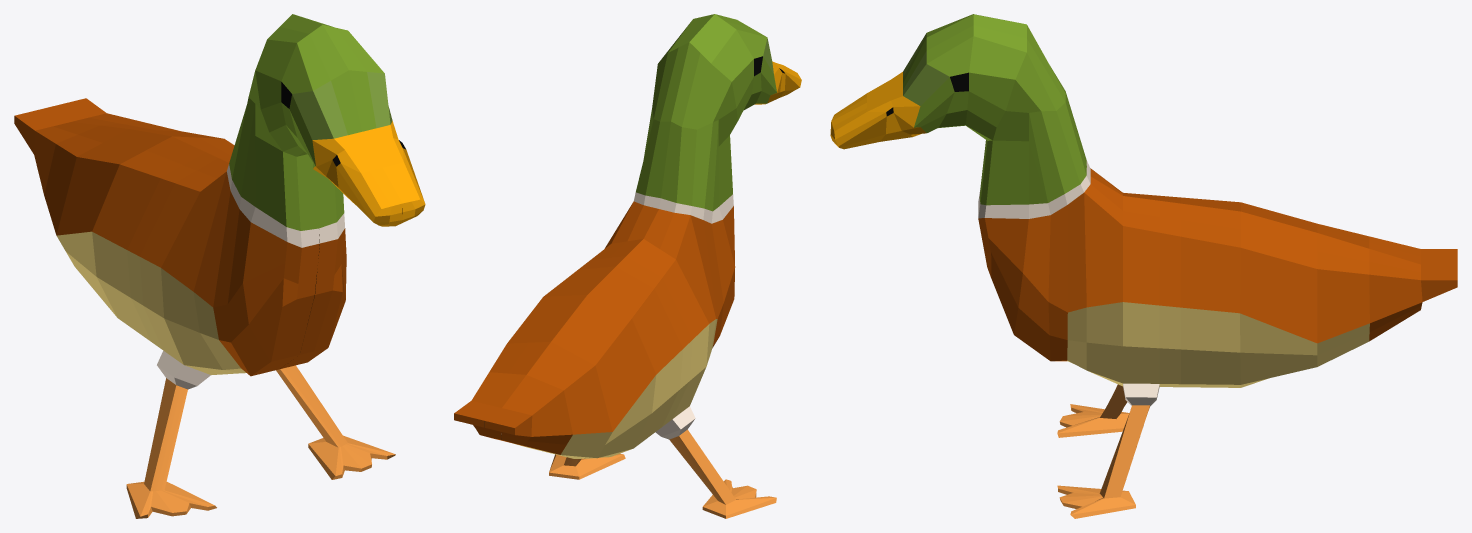
Rendered from duck.glb.
3 views of the same model, side by side, from view 1: azimuth 30°, elevation 25°; view 2: azimuth 150°, elevation 25°; view 3: azimuth 270°, elevation 25° (orthographic). The views are drawn at different scales.
Visible parts, largest first — view 1: Duck.001; view 2: Duck.001; view 3: Duck.001.
Boxes of the visible parts, bbox=[...] form: Duck.001: bbox=[14, 14, 425, 518]; Duck.001: bbox=[454, 14, 801, 518]; Duck.001: bbox=[830, 14, 1457, 518].
Size of the model in its own units: 5.08 by 9.45 by 11.98.
1 material, 1 textured.
